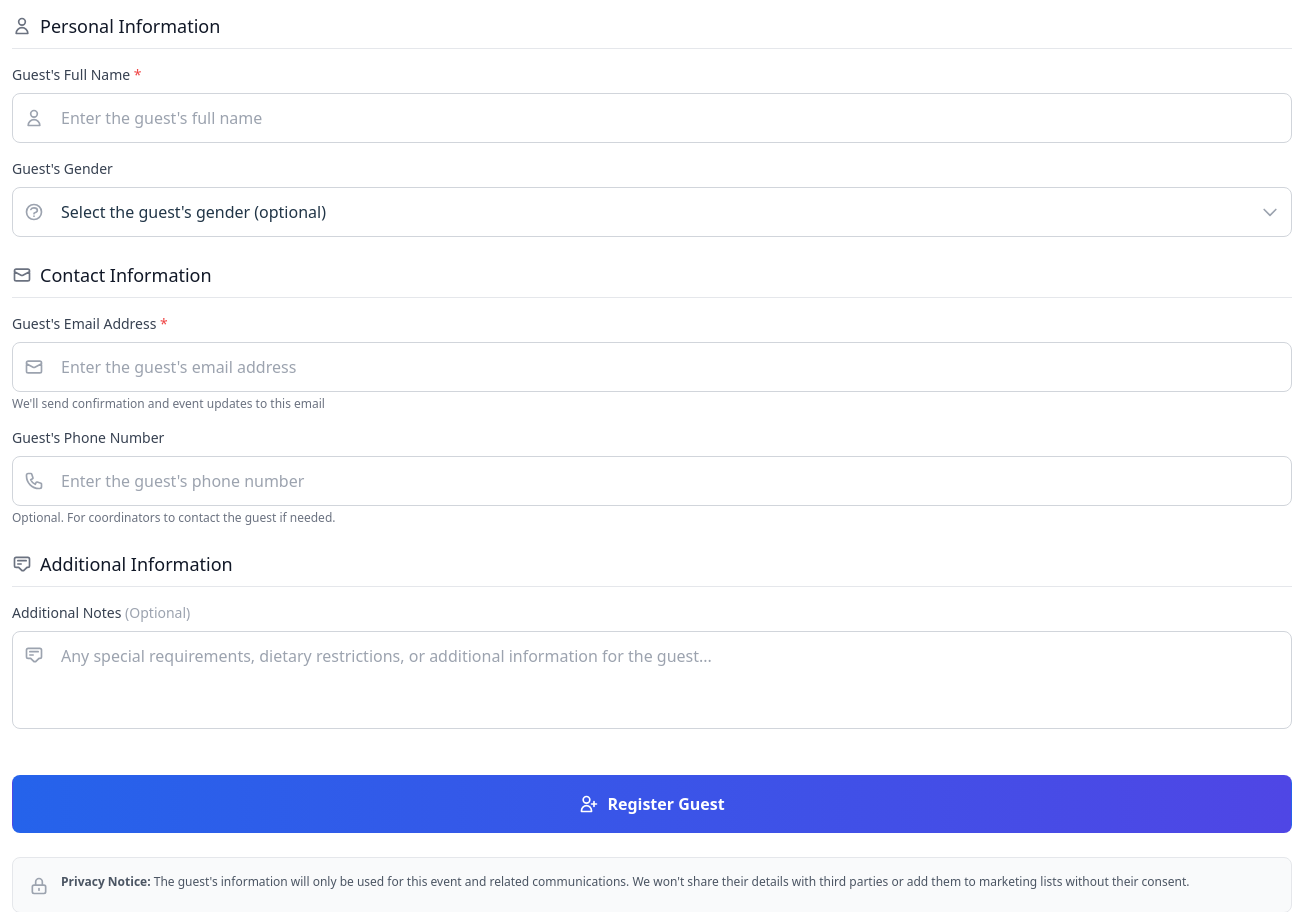
Test: GuestRegistrationForm › shows error on failure
Type "John" into the field labelled "Guest's Full Name *" at (652, 118), box [12, 93, 1292, 143]
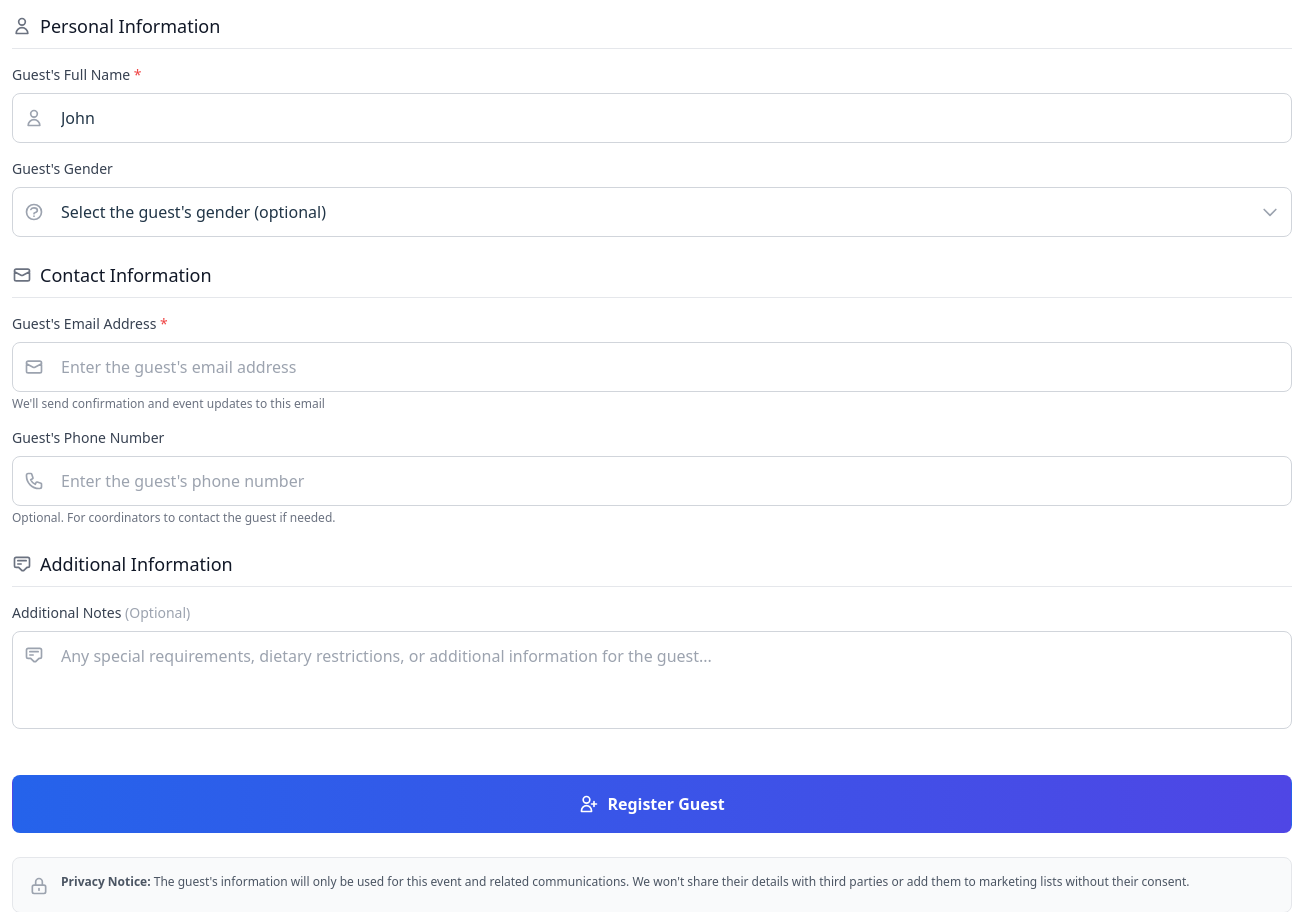
Select "Male" in the dropdown labelled "Guest's Gender" at (652, 212), box [12, 187, 1292, 237]
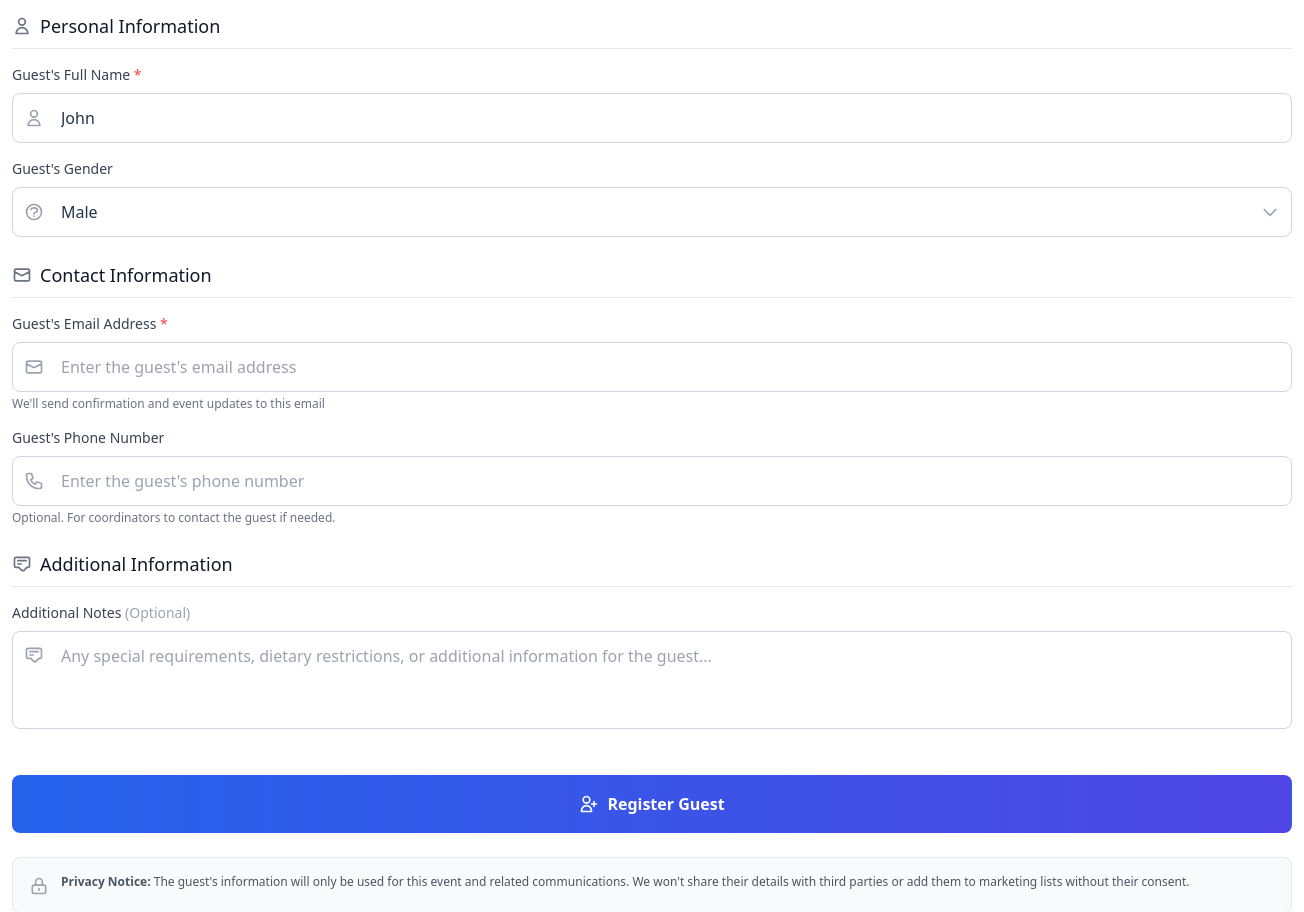
Type "john@example.com" into the field labelled "Guest's Email Address *" at (652, 367), box [12, 342, 1292, 392]
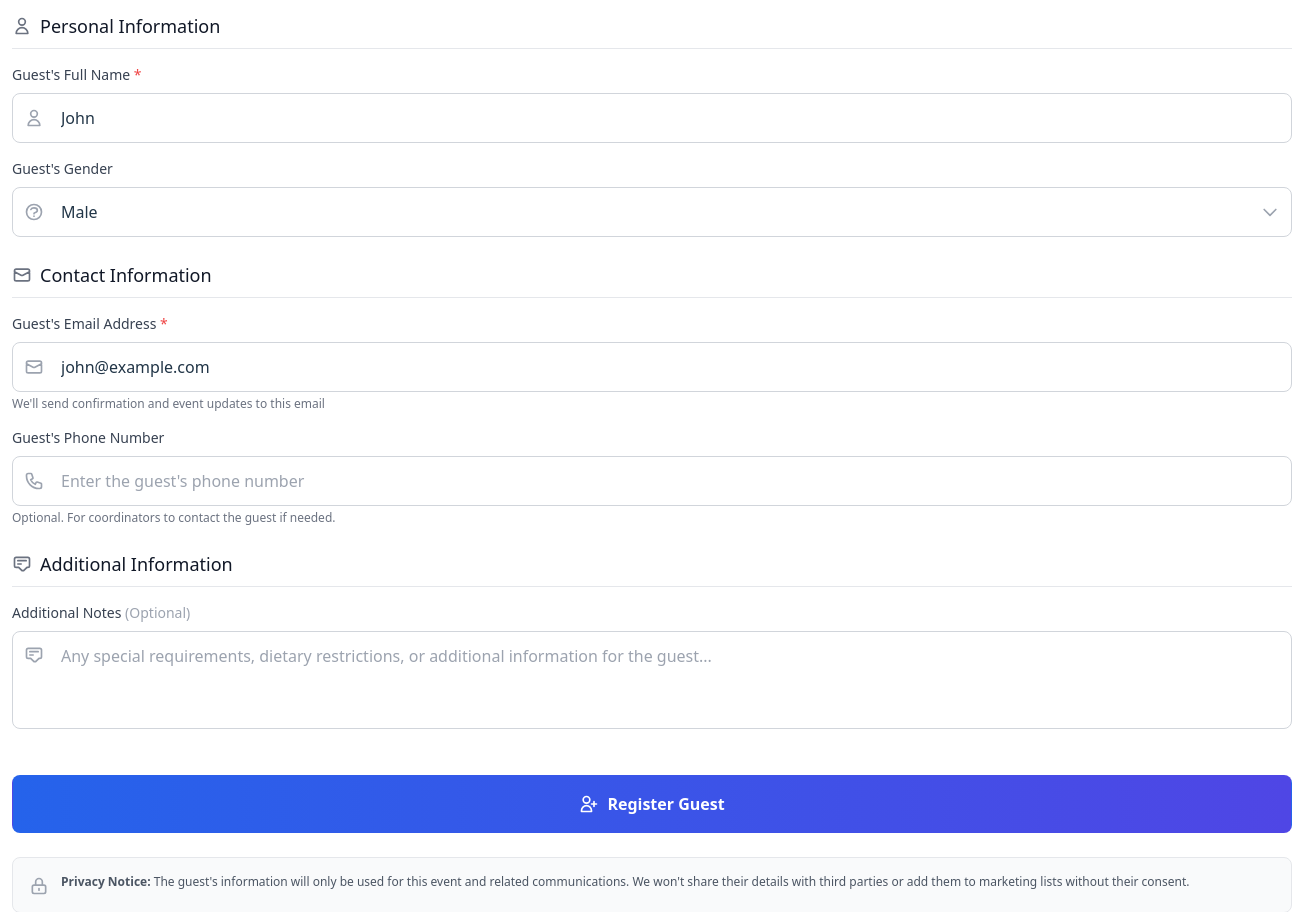
// Phone optional
Click the button "Register Guest" at (652, 804), box [12, 775, 1292, 833]
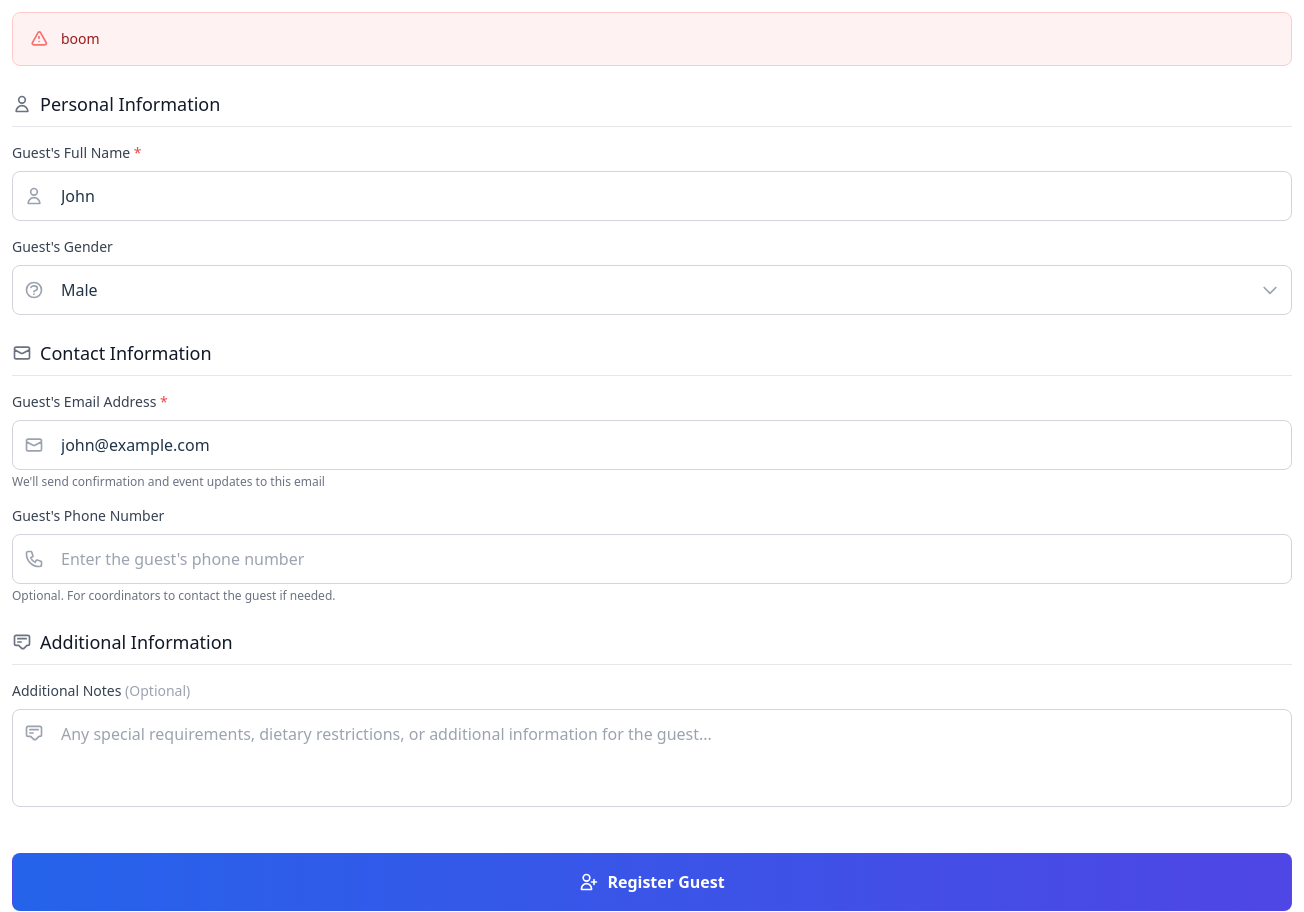
Expected: the text "boom" is shown, [61, 29, 100, 49]
